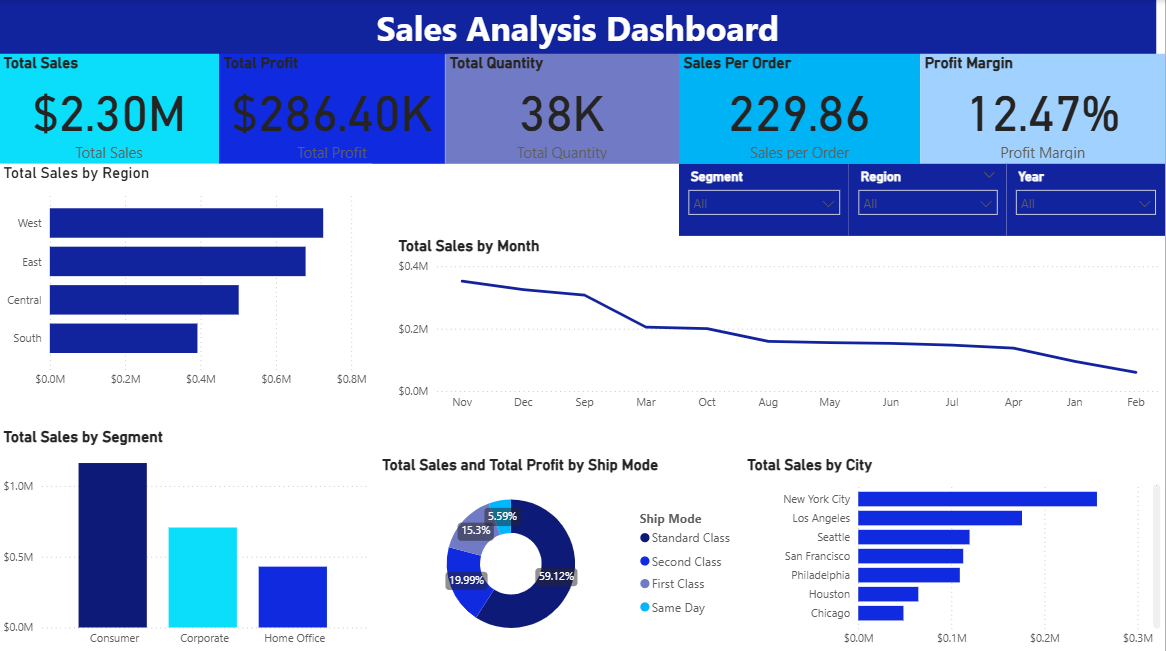

This screenshot's page, from the dashboard's own definition file:
{"tool":"powerbi","page":{"name":"Page 1","canvas":[1280,720],"ordinal":0},"visuals":[{"type":"textbox","box":[10,0,280,280],"z":0},{"type":"textbox","box":[0,0,1270.7,60.4],"z":1000},{"type":"card","title":"Total Sales","fields":{"Values":["Sample - Superstore.Total Sales"]},"box":[0,59,241.5,120.8],"z":2000},{"type":"card","title":"Total Profit","fields":{"Values":["Sample - Superstore.Total Profit"]},"box":[241.5,59,248.4,120.8],"z":3000},{"type":"card","title":"Total Quantity","fields":{"Values":["Sample - Superstore.Total Quantity"]},"box":[489.9,59,256.6,120.8],"z":4000},{"type":"card","title":"Sales Per Order","fields":{"Values":["Sample - Superstore.Sales per Order"]},"box":[746.5,59,264.8,120.8],"z":5000},{"type":"card","title":"Profit Margin","fields":{"Values":["Sample - Superstore.Profit Margin"]},"box":[1011.3,59,269,120.8],"z":6000},{"type":"clusteredBarChart","fields":{"Category":["Sample - Superstore.Region"],"Y":["Sample - Superstore.Total Sales"]},"box":[0,179.8,408.9,255.2],"z":7000},{"type":"columnChart","fields":{"Category":["Sample - Superstore.Segment"],"Y":["Sample - Superstore.Total Sales"]},"box":[0,469.3,408.9,249.7],"z":8000},{"type":"lineChart","title":"Total Sales by Month","fields":{"Category":["Sample - Superstore.MonthShort"],"Y":["Sample - Superstore.Total Sales"]},"box":[433.6,259.3,846.7,209.9],"z":9001},{"type":"donutChart","fields":{"Category":["Sample - Superstore.Ship Mode"],"Y":["Sample - Superstore.Total Sales"]},"box":[415.9,499.4,400.6,219.9],"z":9002},{"type":"clusteredBarChart","fields":{"Category":["Sample - Superstore.City"],"Y":["Sample - Superstore.Total Sales"]},"box":[816.5,499.4,463.6,219.9],"z":9003},{"type":"slicer","title":"Year","fields":{"Values":["Sample - Superstore.Order Date.Variation.Date Hierarchy.Year"]},"box":[1106,179.8,174.3,79.6],"z":9004},{"type":"slicer","fields":{"Values":["Sample - Superstore.Region"]},"box":[933.1,179.8,172.9,79.6],"z":9005},{"type":"slicer","fields":{"Values":["Sample - Superstore.Segment"]},"box":[746.5,179.8,186.6,79.6],"z":9006}]}

Visuals, with their boxes in screenshot pixels (x1, y1, x2, y2), scaled from the page's 1280x720 canvas onto the 1166x651 screenshot:
textbox: Rect(9, 0, 264, 253)
textbox: Rect(0, 0, 1158, 55)
"Total Sales" card: Rect(0, 53, 220, 163)
"Total Profit" card: Rect(220, 53, 446, 163)
"Total Quantity" card: Rect(446, 53, 680, 163)
"Sales Per Order" card: Rect(680, 53, 921, 163)
"Profit Margin" card: Rect(921, 53, 1165, 163)
clusteredBarChart - Sample - Superstore.Region x Sample - Superstore.Total Sales: Rect(0, 163, 372, 393)
columnChart - Sample - Superstore.Segment x Sample - Superstore.Total Sales: Rect(0, 424, 372, 650)
"Total Sales by Month" lineChart: Rect(395, 234, 1165, 424)
donutChart - Sample - Superstore.Ship Mode x Sample - Superstore.Total Sales: Rect(379, 452, 744, 650)
clusteredBarChart - Sample - Superstore.City x Sample - Superstore.Total Sales: Rect(744, 452, 1165, 650)
"Year" slicer: Rect(1007, 163, 1165, 235)
slicer - Sample - Superstore.Region: Rect(850, 163, 1007, 235)
slicer - Sample - Superstore.Segment: Rect(680, 163, 850, 235)
